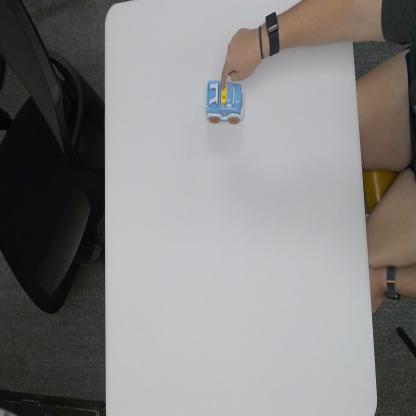Arm: (279, 0, 353, 50)
Car: (205, 78, 244, 126)
Hand: (220, 23, 263, 91)
